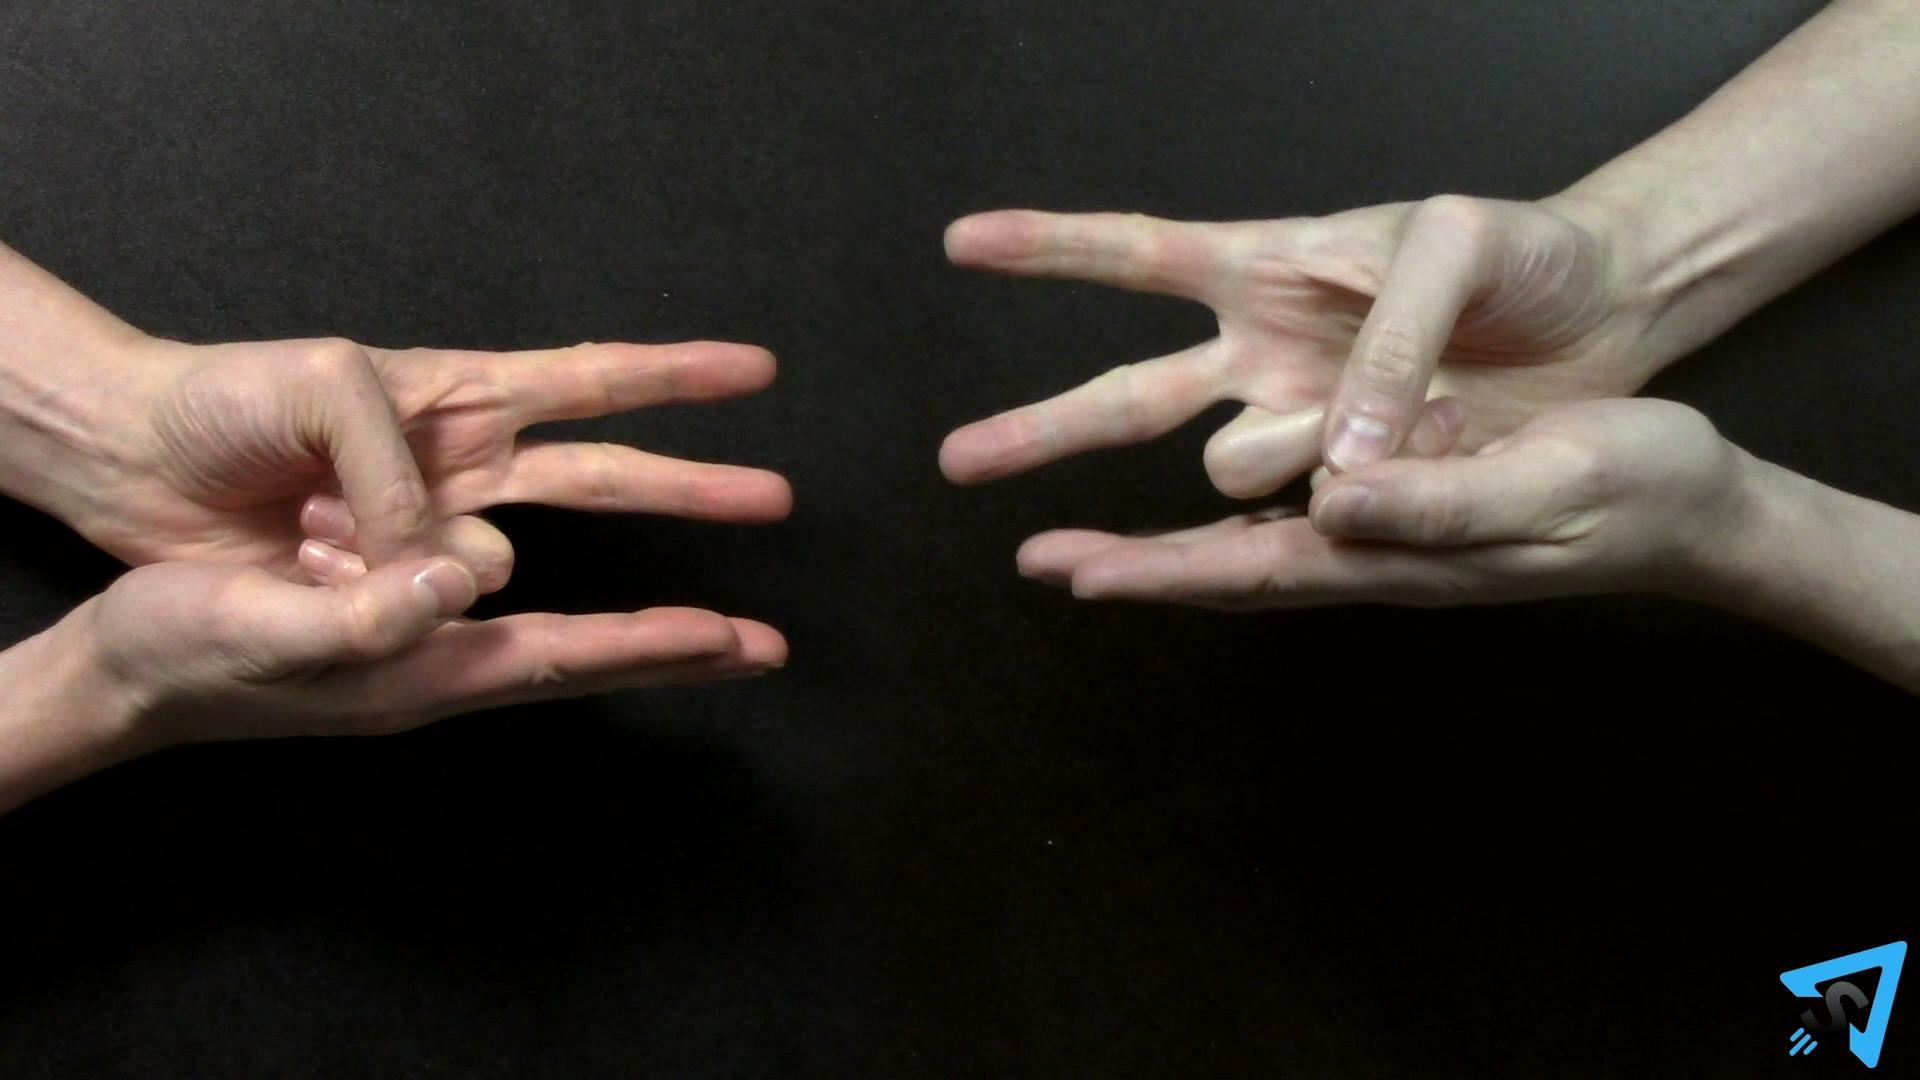Scissors: (940, 195, 1674, 519), (98, 330, 796, 604)
